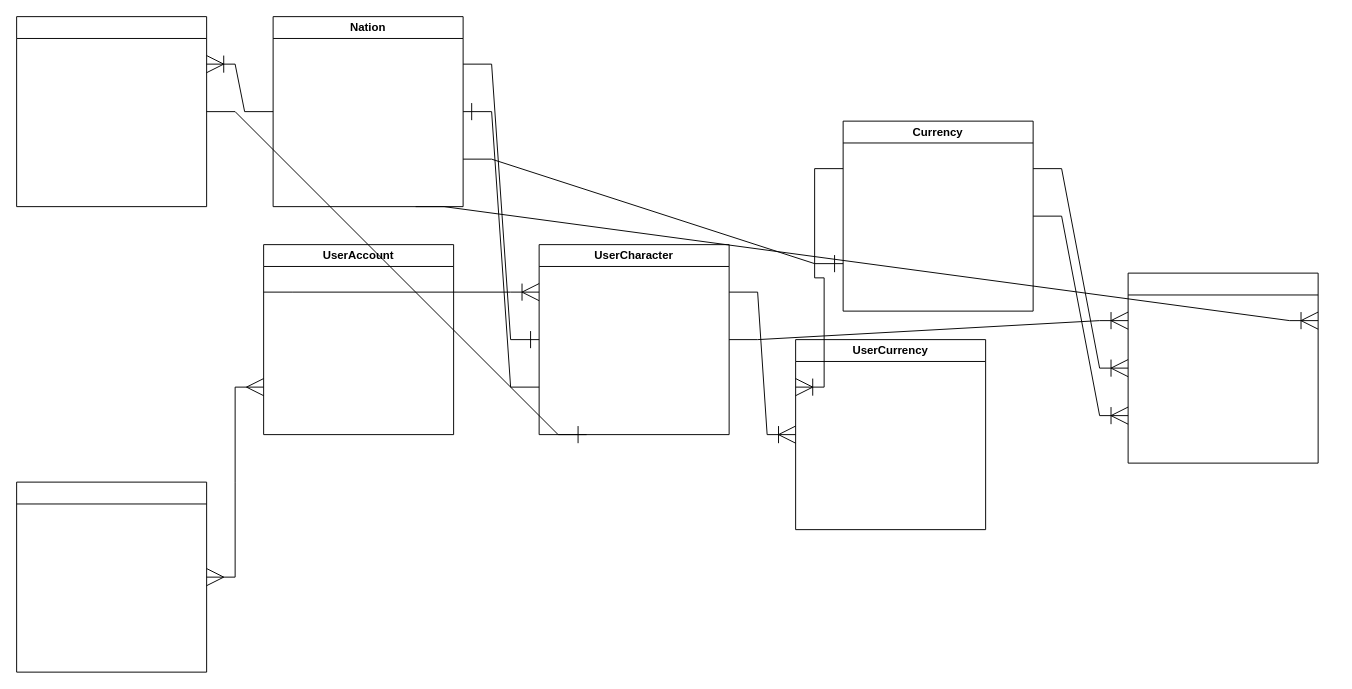
This 1352x689 diagram has some shape labels left out. Each missing label, with the centre of its shape:
"CurrencyMarket" goes at point 1222,367.
"Region" goes at point 111,111.
"Roles" goes at point 111,576.
